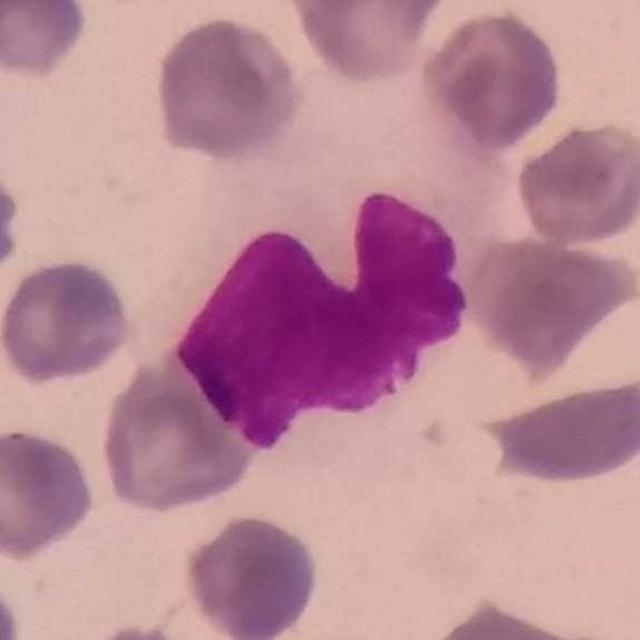Monocyte: (174, 76, 510, 454)
RBC: (95, 354, 258, 518), (463, 231, 639, 373), (149, 12, 306, 163), (416, 3, 568, 154), (473, 373, 640, 487), (180, 511, 324, 640), (0, 255, 137, 388), (511, 116, 640, 249), (0, 422, 100, 563), (290, 0, 448, 86), (415, 595, 629, 640), (0, 0, 92, 81), (0, 162, 24, 286)
